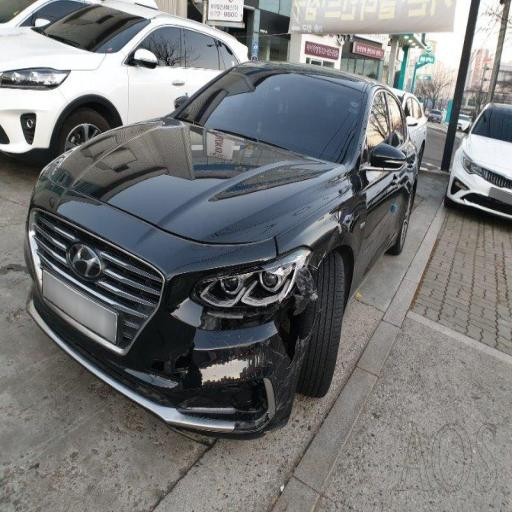scratch: (153, 235, 286, 420)
